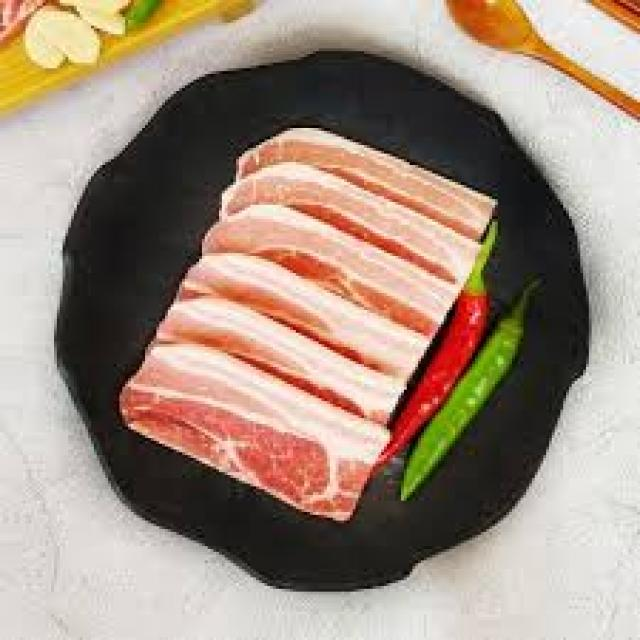Pork: (119, 344, 393, 522)
